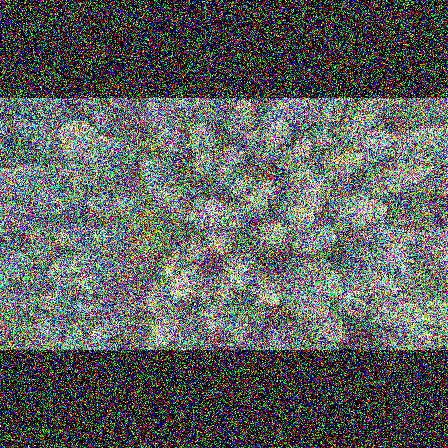Sick: (330, 284, 368, 317), (301, 176, 336, 204), (220, 145, 247, 172), (292, 159, 322, 182), (88, 106, 113, 130)
